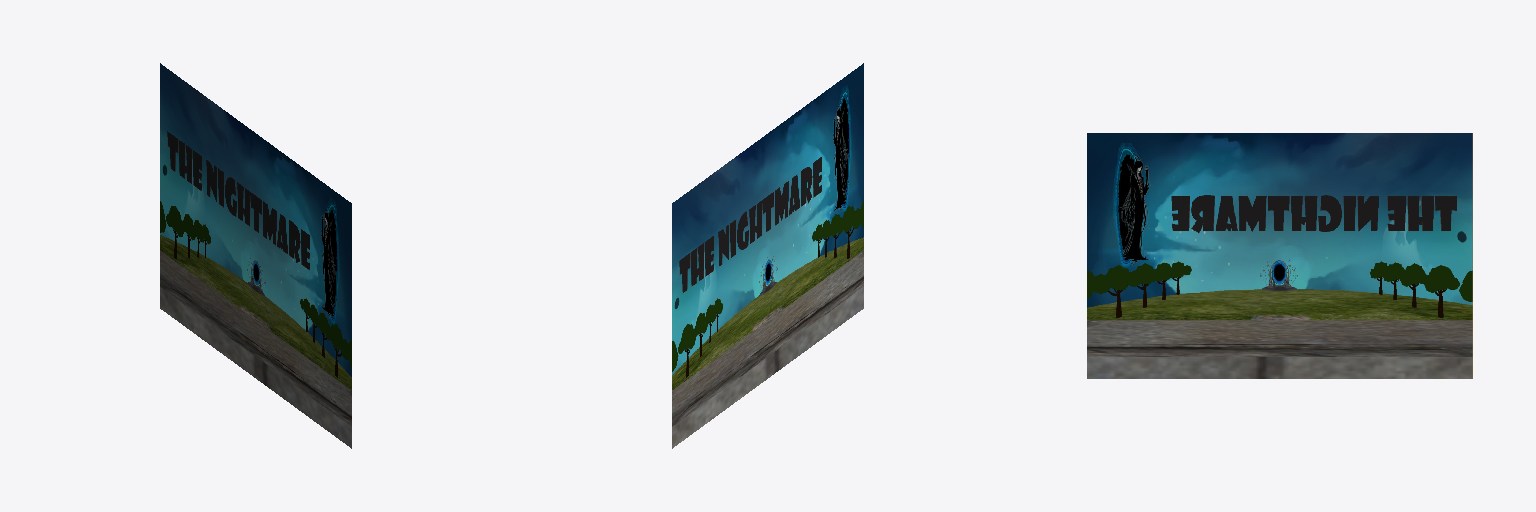
3 views of the same model, side by side, from view 1: azimuth 30°, elevation 25°; view 2: azimuth 150°, elevation 25°; view 3: azimuth 270°, elevation 25° (orthographic).
Parts seen in each view (by area): view 1: Floor_Plane001; view 2: Floor_Plane001; view 3: Floor_Plane001.
Boxes of the visible parts, box(x1,y1,x2,y2) form: Floor_Plane001: box(160, 63, 351, 448); Floor_Plane001: box(672, 63, 863, 448); Floor_Plane001: box(1087, 133, 1472, 378).
Size of the model in its own units: 0 by 1.03 by 1.47.
1 materials, 1 textured.